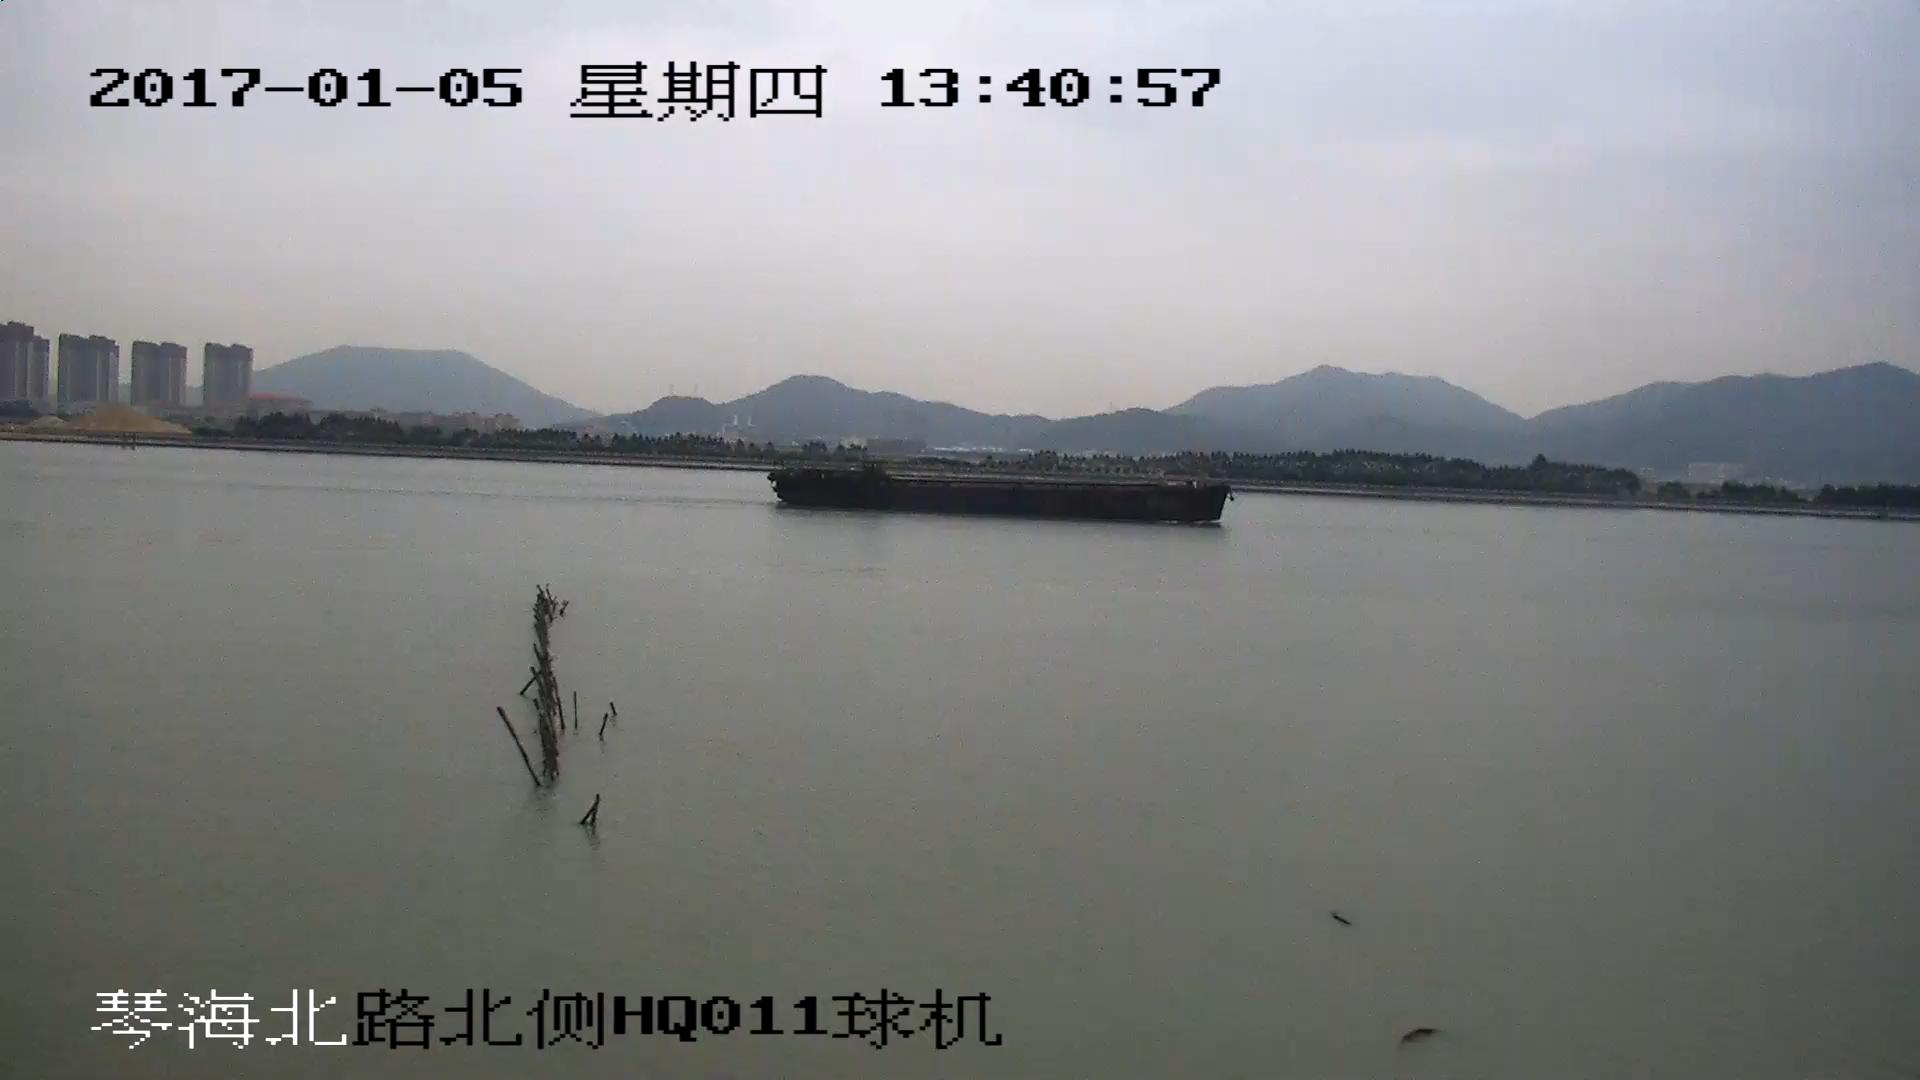bulk cargo carrier: (770, 461, 1235, 524)
